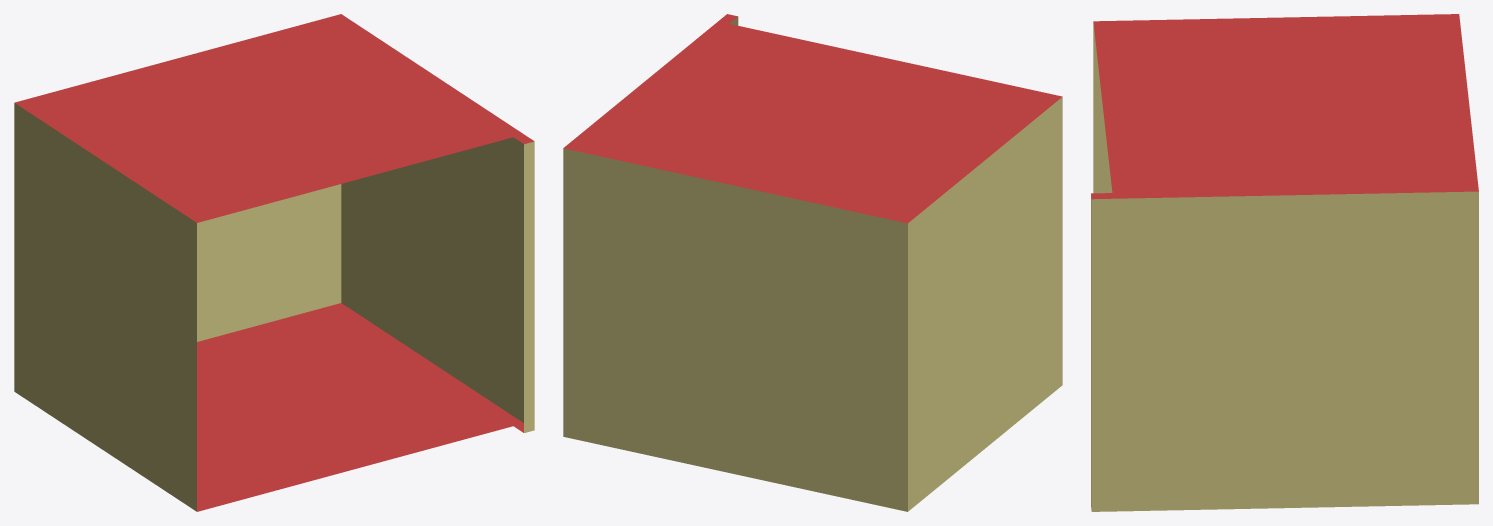
3 views of the same model, side by side, from view 1: azimuth 30°, elevation 25°; view 2: azimuth 150°, elevation 25°; view 3: azimuth 270°, elevation 25° (orthographic). The views are drawn at different scales.
Size of the model in its own units: 7.39 by 6.54 by 5.82.
